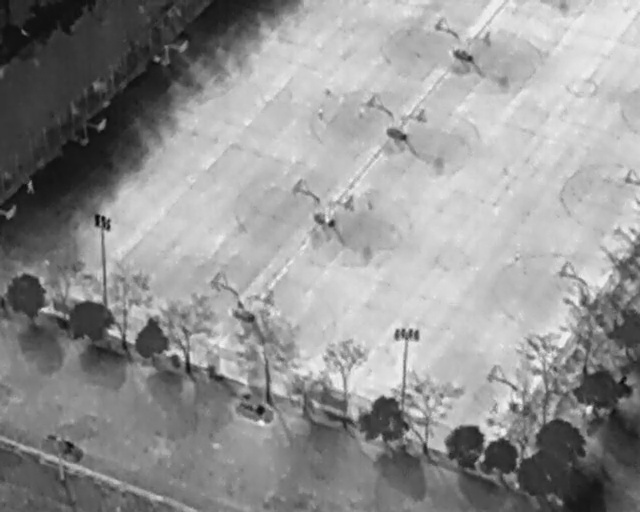Person: (26, 177, 35, 195)
